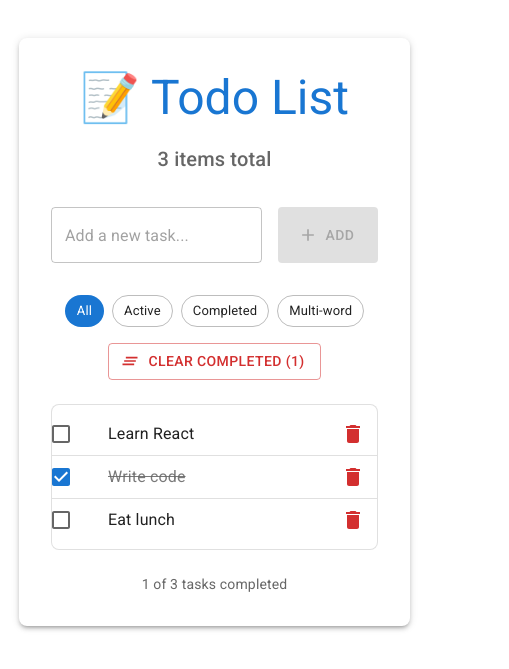
ClunkyTodoList Component › Edge Cases and Error Handling › handles adding tasks with special characters
This screenshot has width=509, height=669.
Type "Task with <script> & \"quotes\" & émojis 🎉" into the field with placeholder "Add a new task...".
click(156, 235); type("Task with <script> & \"quotes\" & émojis 🎉")  # box [51,207,262,263]
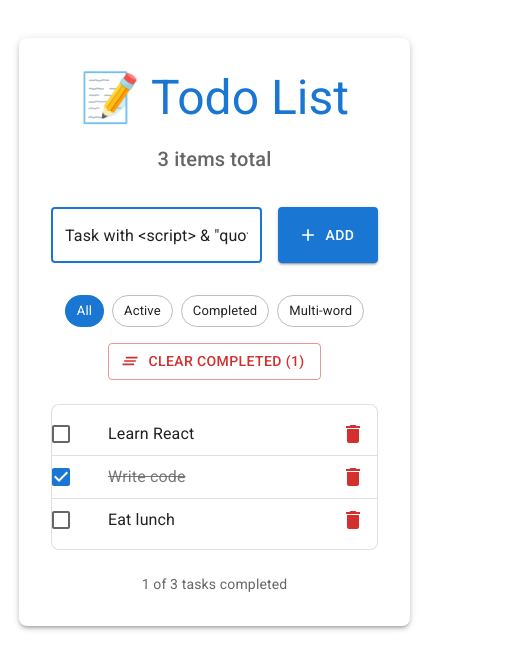
Click the button "Add".
click(328, 235)  # box [278,207,378,263]
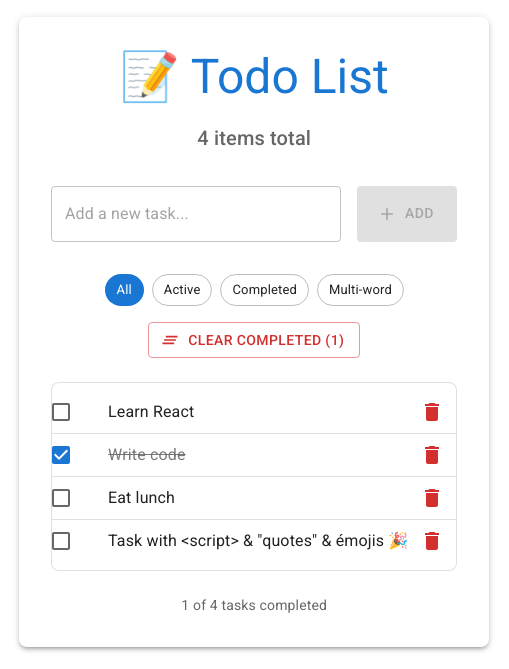
Expected: the text "Task with <script> & \"quotes\" & émojis 🎉" is shown, [108,529,408,553]
